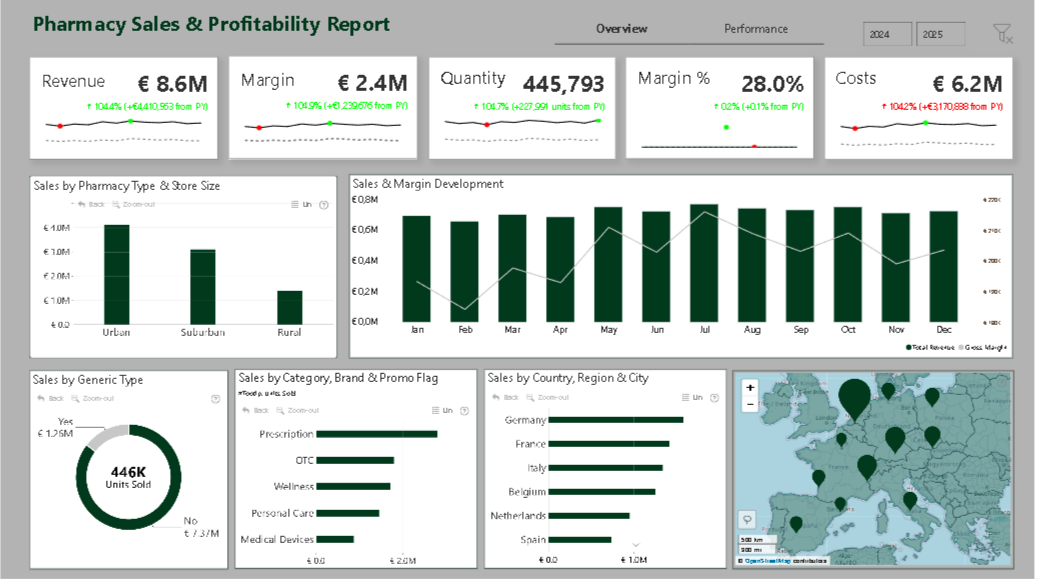

This screenshot's page, from the dashboard's own definition file:
{"tool":"powerbi","page":{"name":"Overview","canvas":[1920,1080],"ordinal":0},"visuals":[{"type":"lineChart","fields":{"Category":["DimDate.MonthShort"],"Y":[" Measures.Total Units Sold"," Measures.Units Sold PY"," Measures.min val units"," Measures.max val units"]},"box":[795.2,111.1,347.6,190.5],"z":0},{"type":"ZoomChartsDrillDownMapPro6AFEEB10499543F282BD06EF315D5EAA","fields":{"latitude":["DimPharmacy.Latitude"],"longitude":["DimPharmacy.Longitude"],"name":["DimPharmacy.Country"],"category":["DimPharmacy.Country"],"value":[" Measures.Total Revenue"]},"box":[1357.7,692.3,523.1,369.2],"z":1000},{"type":"group","id":"g1","title":"Group 1","box":[52.9,110.6,350.7,190.3],"z":2000},{"type":"lineChart","fields":{"Category":["DimDate.MonthShort"],"Y":[" Measures.Gross Margin %"," Measures.Margin % PY"," Measures.min val margin %"," Measures.max val margin"]},"box":[1160.3,110.6,350,190],"z":2000,"group":"g4"},{"type":"lineChart","fields":{"Y":[" Measures.Gross Margin"," Measures.Margin PY"," Measures.min val profit"," Measures.max val profit"],"Category":["DimDate.MonthShort"]},"box":[422.2,109.8,351.8,191.6],"z":2002,"group":"g2"},{"type":"lineChart","fields":{"Y":[" Measures.Total Revenue"," Measures.Revenue PY"," Measures.min val rev"," Measures.max val rev"],"Category":["DimDate.MonthShort"]},"box":[52.9,110.6,350.7,190.3],"z":2002,"group":"g1"},{"type":"lineChart","fields":{"Category":["DimDate.MonthShort"],"Y":[" Measures.Total Costs"," Measures.Costs PY"," Measures.min val cost"," Measures.max val cost"]},"box":[1529.4,110.6,350.7,191.1],"z":2002,"group":"g5"},{"type":"textbox","box":[70.3,125.5,148.7,66],"z":2008,"group":"g1"},{"type":"textbox","box":[1545.9,122.1,140.6,70.3],"z":2010,"group":"g5"},{"type":"textbox","box":[439.4,125.3,138.7,60],"z":2010,"group":"g2"},{"type":"ZoomChartsFacetChartPaidE77E4ED357DC402ABA005987437CF500","title":"Sales by Pharmacy Type & Store Size","fields":{"Category":["DimPharmacy.PharmacyType","DimPharmacy.StoreSizeBand"],"Values1":[" Measures.Total Revenue"]},"box":[53.1,331.2,571.9,339.1],"z":3000},{"type":"textbox","box":[812.7,122.2,147.6,58.7],"z":4000},{"type":"textbox","box":[1178.8,122,154.1,64.9],"z":5000,"group":"g4"},{"type":"ZoomChartsDrillDownComboBarProE77E4ED357DC402ABA005987437CF8","title":"Sales by Category, Brand & Promo Flag","fields":{"Category":["DimProduct.Category","DimProduct.Brand","FactSales.PromoFlag"],"Values1":[" Measures.Total Revenue"],"tooltipContent":[" Measures.Total Units Sold"]},"box":[434.6,692.2,450,370.5],"z":5000},{"type":"ZoomChartsDrillDownComboBarProE77E4ED357DC402ABA005987437CF8","title":"Sales by Country, Region & City","fields":{"Category":["DimPharmacy.Country","DimPharmacy.Region","DimPharmacy.City"],"Values1":[" Measures.Total Revenue"]},"box":[897,692.2,450,370.5],"z":6000},{"type":"group","id":"g2","title":"Group 2","box":[422.2,109.8,351.8,191.6],"z":7000},{"type":"group","id":"g3","title":"Group 2","box":[1529.4,110.6,350.7,191.1],"z":8000},{"type":"lineClusteredColumnComboChart","title":"Monthly Sales and Margin Trends","fields":{"Category":["DimDate.Month"],"Y":[" Measures.Total Revenue"],"Y2":[" Measures.Gross Margin"]},"box":[646.9,329.6,1232.1,340.7],"z":9000},{"type":"group","id":"g4","title":"Group 4","box":[1160.3,110.6,350,190],"z":10000},{"type":"textbox","box":[53.1,18.8,685.9,76.6],"z":11000},{"type":"pageNavigator","box":[1029.5,27.3,500,61.4],"z":12000},{"type":"group","id":"g5","title":"Group 5","box":[1529.4,110.6,350.7,191.1],"z":12003,"group":"g3"},{"type":"image","box":[1843.2,50,36.4,38.6],"z":13000},{"type":"ZoomChartsPieChartPaidE77E4ED357DC402ABA005987437CF500","title":"Branded vs Generic Sales","fields":{"Values":[" Measures.Total Revenue"],"kpiContent":[" Measures.Quantity Label"],"kpiValue":[" Measures.Total Units Sold"],"Category":["DimProduct.IsGeneric"]},"box":[53.8,692.3,369.2,369.2],"z":14000},{"type":"advancedSlicerVisual","fields":{"Values":["DimDate.Year"]},"box":[1597.2,42.3,200,55],"z":15000}]}

Visuals, with their boxes in screenshot pixels (x1, y1, x2, y2), scaled from the page's 1920x1080 canvas onto the 1039x579 screenshot:
lineChart - DimDate.MonthShort x  Measures.Total Units Sold: BBox(430, 60, 618, 162)
ZoomChartsDrillDownMapPro6AFEEB10499543F282BD06EF315D5EAA - DimPharmacy.Latitude x DimPharmacy.Longitude: BBox(735, 371, 1018, 569)
"Group 1" group: BBox(29, 59, 218, 161)
lineChart - DimDate.MonthShort x  Measures.Gross Margin %: BBox(628, 59, 817, 161)
lineChart -  Measures.Gross Margin x  Measures.Margin PY: BBox(228, 59, 419, 162)
lineChart -  Measures.Total Revenue x  Measures.Revenue PY: BBox(29, 59, 218, 161)
lineChart - DimDate.MonthShort x  Measures.Total Costs: BBox(828, 59, 1017, 162)
textbox: BBox(38, 67, 119, 103)
textbox: BBox(837, 65, 913, 103)
textbox: BBox(238, 67, 313, 99)
"Sales by Pharmacy Type & Store Size" ZoomChartsFacetChartPaidE77E4ED357DC402ABA005987437CF500: BBox(29, 178, 338, 359)
textbox: BBox(440, 66, 520, 97)
textbox: BBox(638, 65, 721, 100)
"Sales by Category, Brand & Promo Flag" ZoomChartsDrillDownComboBarProE77E4ED357DC402ABA005987437CF8: BBox(235, 371, 479, 570)
"Sales by Country, Region & City" ZoomChartsDrillDownComboBarProE77E4ED357DC402ABA005987437CF8: BBox(485, 371, 729, 570)
"Group 2" group: BBox(228, 59, 419, 162)
"Group 2" group: BBox(828, 59, 1017, 162)
"Monthly Sales and Margin Trends" lineClusteredColumnComboChart: BBox(350, 177, 1017, 359)
"Group 4" group: BBox(628, 59, 817, 161)
textbox: BBox(29, 10, 400, 51)
pageNavigator: BBox(557, 15, 828, 48)
"Group 5" group: BBox(828, 59, 1017, 162)
image: BBox(997, 27, 1017, 47)
"Branded vs Generic Sales" ZoomChartsPieChartPaidE77E4ED357DC402ABA005987437CF500: BBox(29, 371, 229, 569)
advancedSlicerVisual - DimDate.Year: BBox(864, 23, 973, 52)
